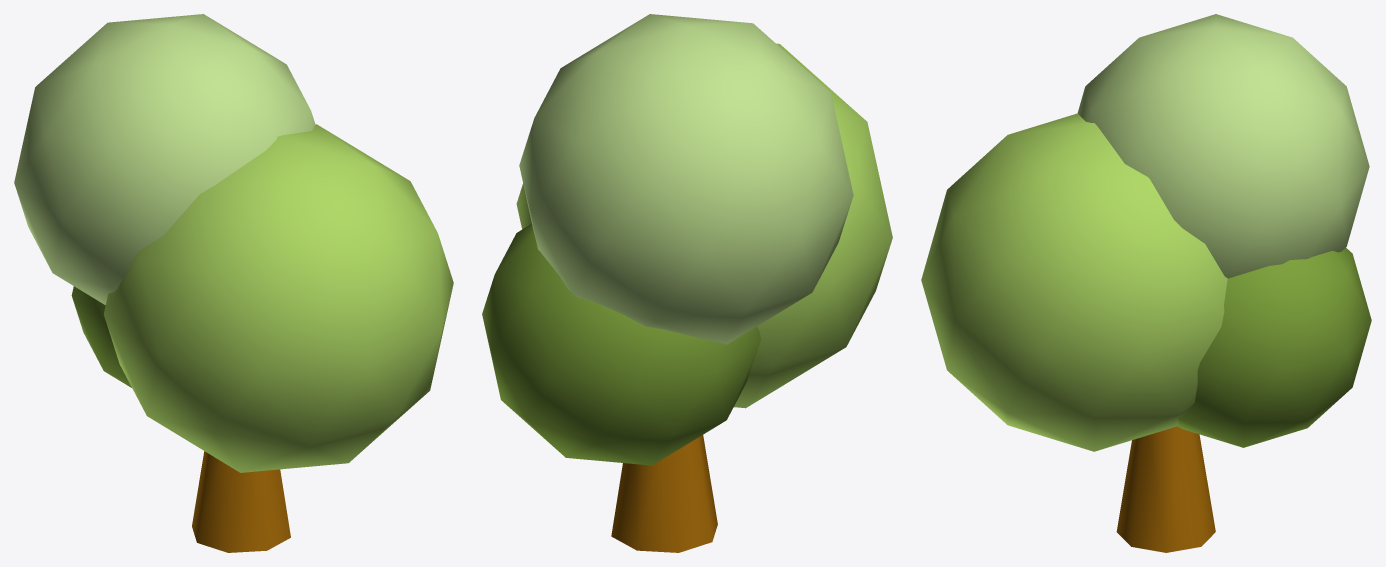
File: tree2.fbx
The picture shows the model from 3 angles, left to right: view 1: azimuth 30°, elevation 25°; view 2: azimuth 150°, elevation 25°; view 3: azimuth 270°, elevation 25°; orthographic projection. The views are drawn at different scales.
Visible parts, largest first — view 1: tree2; view 2: tree2; view 3: tree2.
Boxes of the visible parts, x1=… form: tree2: x1=14, y1=14, x2=453, y2=552; tree2: x1=482, y1=14, x2=892, y2=552; tree2: x1=921, y1=14, x2=1371, y2=552.
Bounding box in the file's own units: 229 × 336 × 285.
